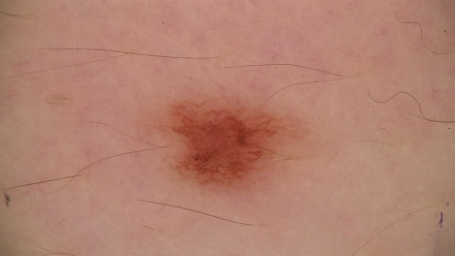melanoma: (172, 101, 273, 185)
